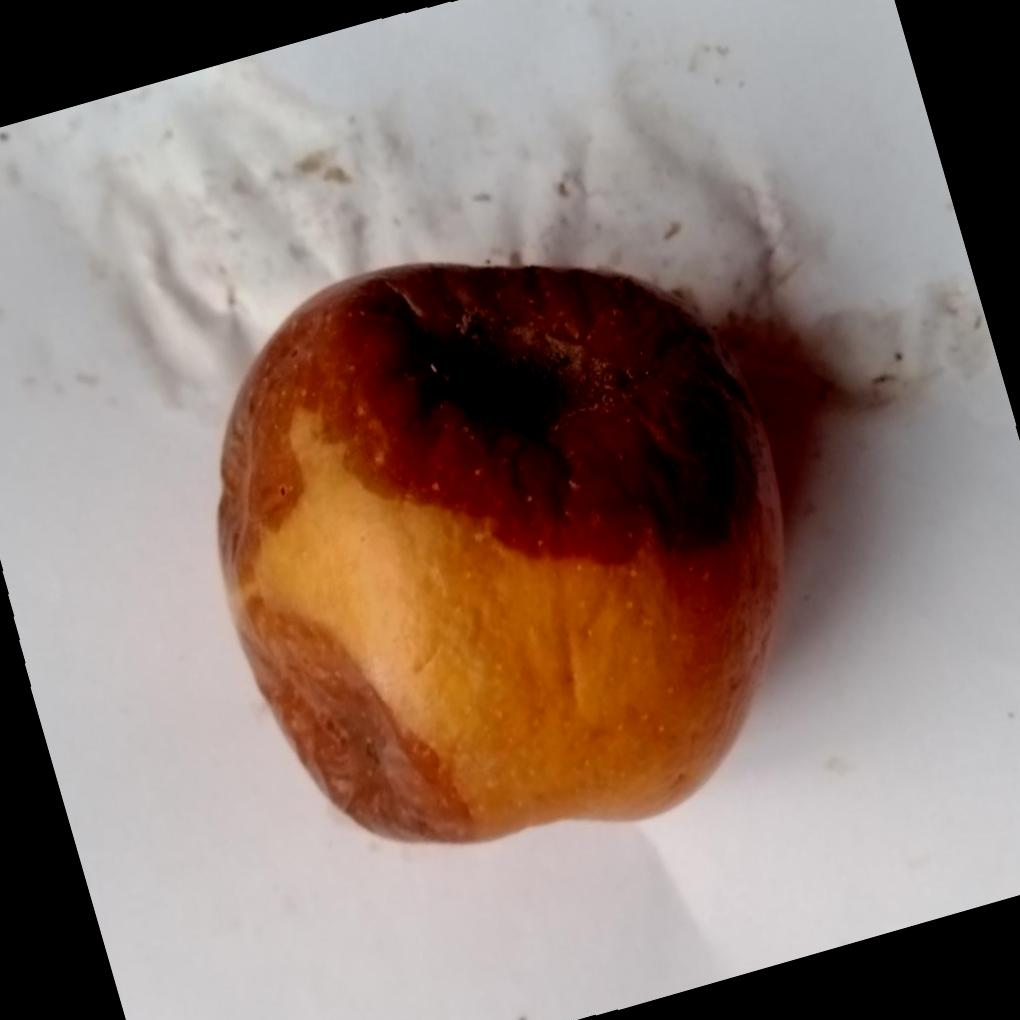FreshOrange: (218, 259, 792, 845)
